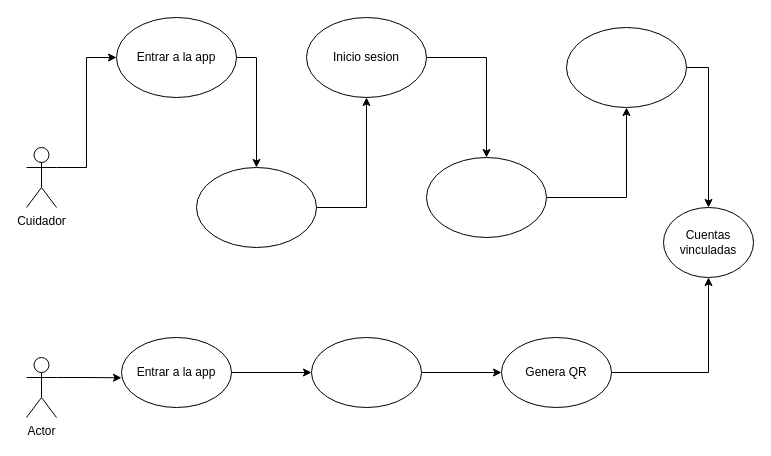
The diagram is 771 pixels wide and 456 high, and some of its shapes have lost their labels. The centre of each missing label's shape, as x and y in pixels:
Escanea QR de paciente: point 626,67
Llenar datos del paciente: point 486,197
Selecciona perfl paciente: point 366,372
Selección de perfil: point 256,207
